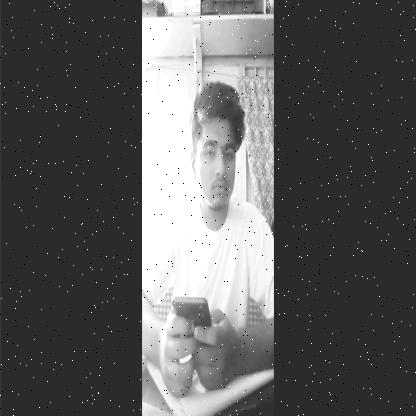Normal: (188, 80, 244, 219)
